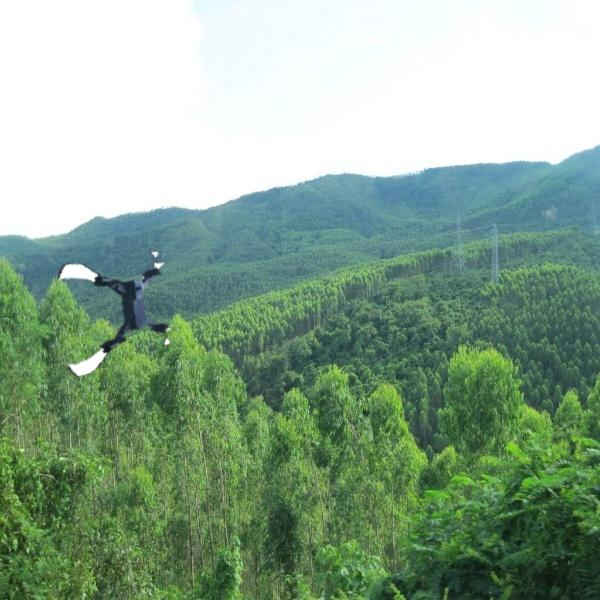drone: (53, 248, 184, 379)
